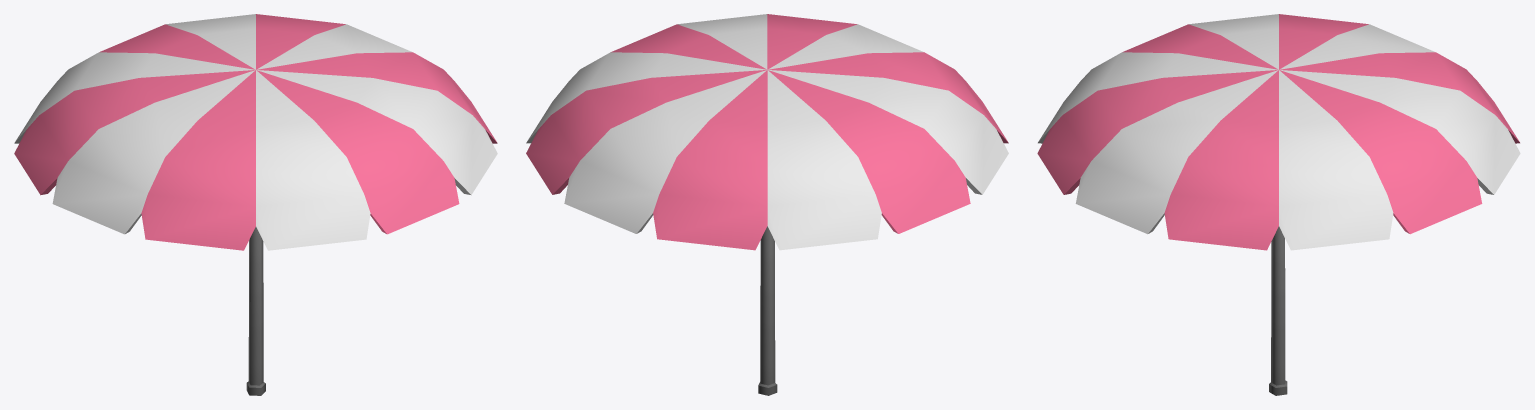
Rendered from Parasol_1_A.fbx.
3 renders of one model, left to right at view 1: azimuth 30°, elevation 25°; view 2: azimuth 150°, elevation 25°; view 3: azimuth 270°, elevation 25°, orthographic.
Parts seen in each view (by area): view 1: Parasol_1_A; view 2: Parasol_1_A; view 3: Parasol_1_A.
Boxes of the visible parts, bbox=[...] form: Parasol_1_A: bbox=[14, 14, 497, 395]; Parasol_1_A: bbox=[526, 14, 1008, 395]; Parasol_1_A: bbox=[1037, 14, 1520, 395].
Bounding box in the file's own units: 222 × 163 × 222.
